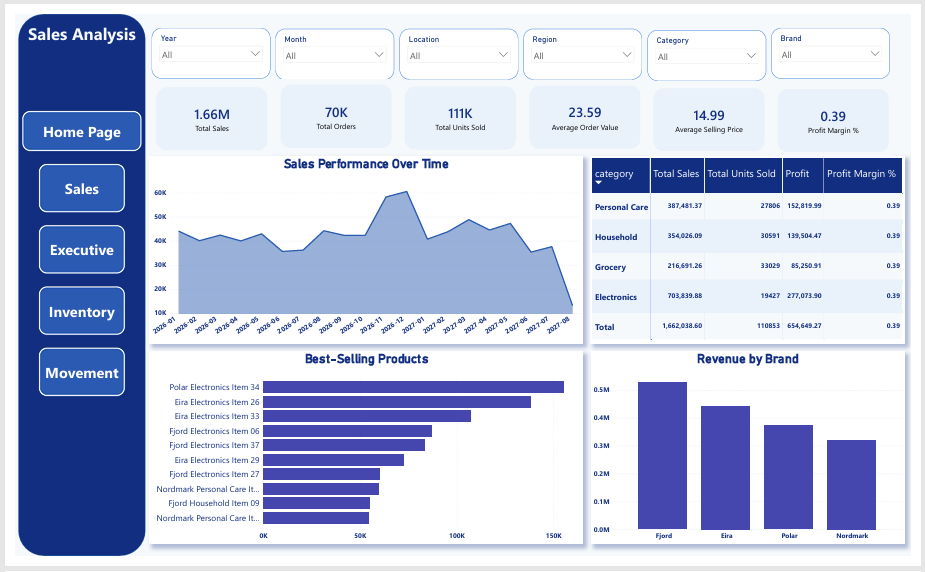

The page's visual inventory and layout, read from the dashboard file:
{"tool":"powerbi","page":{"name":"Sales Analysis ","canvas":[2150,1300],"ordinal":1},"visuals":[{"type":"slicer","fields":{"Values":["location_master.region"]},"box":[1220,35,285,122],"z":0},{"type":"slicer","fields":{"Values":["location_master.location_type"]},"box":[922.5,35,285,122],"z":1000},{"type":"slicer","fields":{"Values":["product_master.category"]},"box":[1517.5,37.5,285,122],"z":2000},{"type":"slicer","fields":{"Values":["product_master.brand"]},"box":[1815,32.5,285,122],"z":3000},{"type":"slicer","fields":{"Values":["dim_date.Date.Variation.Date Hierarchy.Year"]},"box":[327.5,32.5,285,122.5],"z":4000},{"type":"cardVisual","fields":{"Data":["Measures_Table.Total Sales"]},"box":[322.5,158.5,300,185],"z":4000,"group":"g1"},{"type":"shape","box":[7.5,0,305,1300],"z":5000},{"type":"cardVisual","fields":{"Data":["Measures_Table.Total Orders"]},"box":[620.7,152.5,300,185],"z":5000,"group":"g1"},{"type":"slicer","fields":{"Values":["dim_date.Date.Variation.Date Hierarchy.Month"]},"box":[625,35,285,122.5],"z":6000},{"type":"cardVisual","fields":{"Data":["Measures_Table.Total Units Sold"]},"box":[918.9,156.5,300,185],"z":6000,"group":"g1"},{"type":"cardVisual","fields":{"Data":["Measures_Table.Average Order Value"]},"box":[1217.1,154.5,300,185],"z":7000,"group":"g1"},{"type":"actionButton","box":[7.5,222.5,305,115],"z":7000,"group":"g2"},{"type":"cardVisual","fields":{"Data":["Measures_Table.Average Selling Price"]},"box":[1515.3,160.5,300,185],"z":8000,"group":"g1"},{"type":"actionButton","box":[47.5,349.4,225,135],"z":8000,"group":"g2"},{"type":"cardVisual","fields":{"Data":["Measures_Table.Profit Margin %"]},"box":[1813.5,162.5,300,185],"z":9000,"group":"g1"},{"type":"actionButton","box":[47.5,643.1,225,135],"z":9000,"group":"g2"},{"type":"actionButton","box":[47.5,790,225,135],"z":10000,"group":"g2"},{"type":"pivotTable","title":"Category Breakdown","fields":{"Rows":["product_master.category"],"Values":["Measures_Table.Total Sales","Measures_Table.Total Units Sold","Measures_Table.Profit","Measures_Table.Profit Margin %"]},"box":[1382,341,754,450],"z":11000},{"type":"actionButton","box":[47.5,496.3,225,135],"z":11000,"group":"g2"},{"type":"clusteredBarChart","title":"Best-Selling Products","fields":{"Category":["product_master.product_name"],"Y":["Measures_Table.Total Sales"]},"box":[322.5,810,1040,462.5],"z":12000},{"type":"areaChart","title":"Sales Performance Over Time","fields":{"Category":["dim_date.Year-Month"],"Y":["Measures_Table.Total Sales"]},"box":[322.5,341,1040,450],"z":13000},{"type":"clusteredColumnChart","title":"Revenue by Brand","fields":{"Category":["product_master.brand"],"Y":["Measures_Table.Total Sales"]},"box":[1382.5,810,752.5,462.5],"z":14000},{"type":"group","id":"g1","title":"Group 1","box":[322.5,152.5,1790,195],"z":15000},{"type":"group","id":"g2","title":"Group 3","box":[7.5,222.5,305,702.5],"z":15001}]}

Visuals, with their boxes in screenshot pixels (x1, y1, x2, y2), scaled from the page's 2150x1300 canvas onto the 925x572 screenshot:
slicer - location_master.region: x1=525 y1=15 x2=648 y2=69
slicer - location_master.location_type: x1=397 y1=15 x2=520 y2=69
slicer - product_master.category: x1=653 y1=16 x2=775 y2=70
slicer - product_master.brand: x1=781 y1=14 x2=903 y2=68
slicer - dim_date.Date.Variation.Date Hierarchy.Year: x1=141 y1=14 x2=264 y2=68
cardVisual - Measures_Table.Total Sales: x1=139 y1=70 x2=268 y2=151
shape: x1=3 y1=0 x2=134 y2=571
cardVisual - Measures_Table.Total Orders: x1=267 y1=67 x2=396 y2=148
slicer - dim_date.Date.Variation.Date Hierarchy.Month: x1=269 y1=15 x2=392 y2=69
cardVisual - Measures_Table.Total Units Sold: x1=395 y1=69 x2=524 y2=150
cardVisual - Measures_Table.Average Order Value: x1=524 y1=68 x2=653 y2=149
actionButton: x1=3 y1=98 x2=134 y2=148
cardVisual - Measures_Table.Average Selling Price: x1=652 y1=71 x2=781 y2=152
actionButton: x1=20 y1=154 x2=117 y2=213
cardVisual - Measures_Table.Profit Margin %: x1=780 y1=72 x2=909 y2=153
actionButton: x1=20 y1=283 x2=117 y2=342
actionButton: x1=20 y1=348 x2=117 y2=407
"Category Breakdown" pivotTable: x1=595 y1=150 x2=919 y2=348
actionButton: x1=20 y1=218 x2=117 y2=278
"Best-Selling Products" clusteredBarChart: x1=139 y1=356 x2=586 y2=560
"Sales Performance Over Time" areaChart: x1=139 y1=150 x2=586 y2=348
"Revenue by Brand" clusteredColumnChart: x1=595 y1=356 x2=919 y2=560
"Group 1" group: x1=139 y1=67 x2=909 y2=153
"Group 3" group: x1=3 y1=98 x2=134 y2=407
